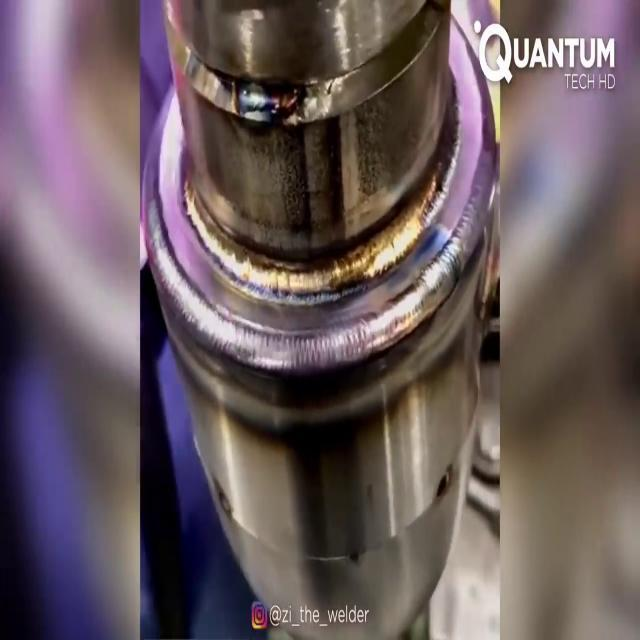Good Weld: (170, 308, 456, 394), (204, 225, 406, 302)
